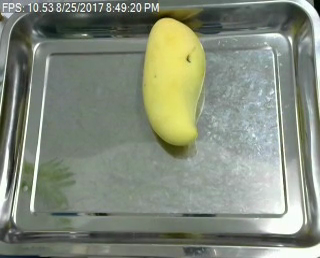Mango: (136, 15, 210, 152)
